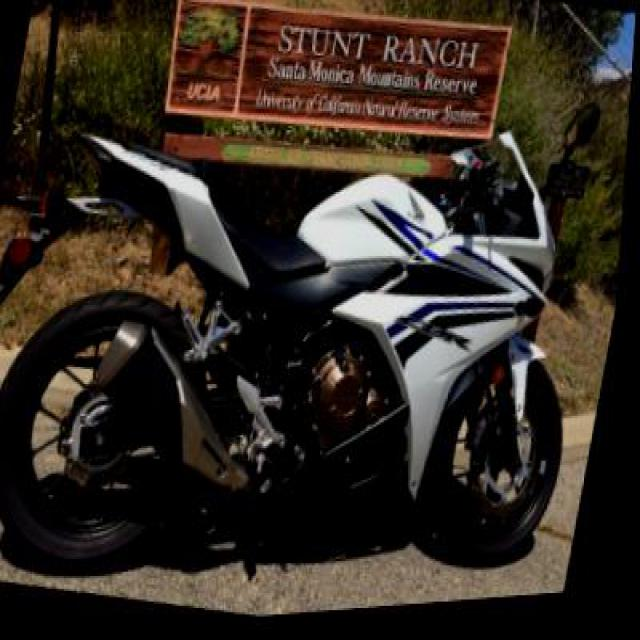CBR500R: (0, 32, 634, 638)
